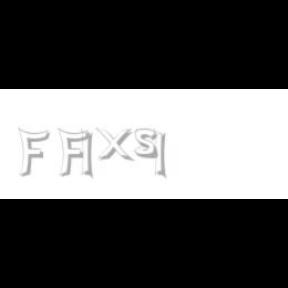F: (17, 128, 49, 178), (57, 128, 89, 178)
I: (154, 128, 168, 180), (82, 128, 94, 180)
s: (134, 128, 162, 160)
x: (95, 128, 137, 162)
